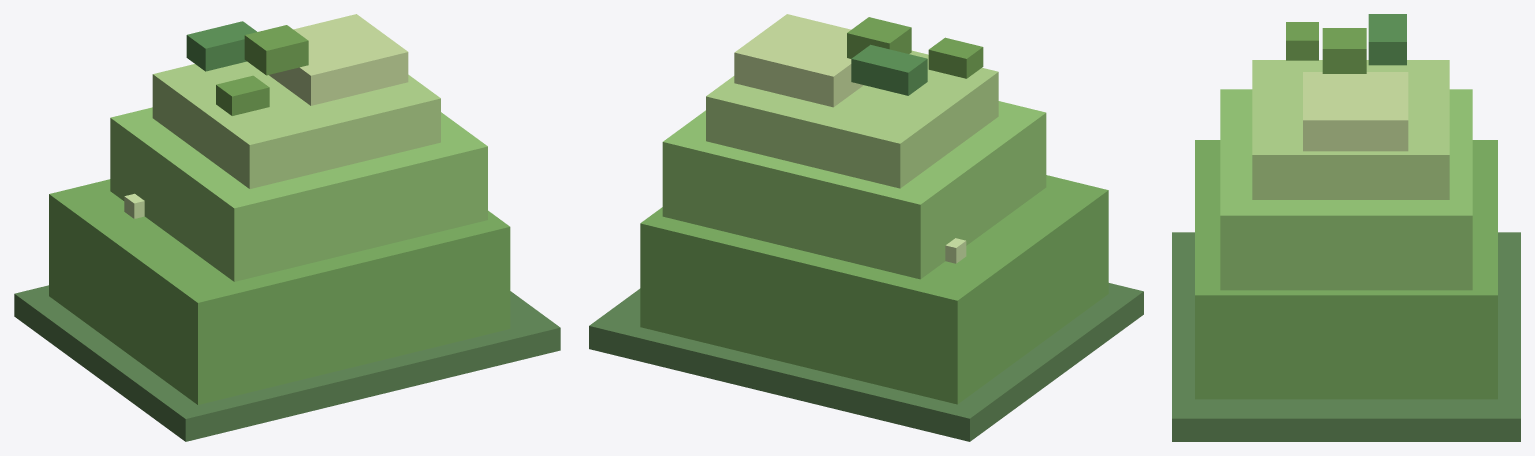
The model's file is moss-slime.glb.
3 renders of one model, left to right at view 1: azimuth 30°, elevation 25°; view 2: azimuth 150°, elevation 25°; view 3: azimuth 270°, elevation 25°, orthographic.
Parts seen in each view (by area): view 1: Slime_Body, Slime_Highlight, Wet_Ground, Moss; view 2: Slime_Body, Slime_Highlight, Wet_Ground, Moss; view 3: Slime_Body, Slime_Highlight, Wet_Ground, Moss.
Part boxes in pixels (<box>): Slime_Body: <box>49,107,510,404</box>; Slime_Highlight: <box>152,14,440,188</box>; Wet_Ground: <box>14,285,560,441</box>; Moss: <box>186,21,308,115</box>; Slime_Body: <box>640,101,1108,404</box>; Slime_Highlight: <box>706,14,998,188</box>; Wet_Ground: <box>589,283,1143,441</box>; Moss: <box>847,17,983,95</box>; Slime_Body: <box>1195,89,1497,399</box>; Slime_Highlight: <box>1252,60,1449,199</box>; Wet_Ground: <box>1172,232,1520,441</box>; Moss: <box>1286,14,1406,73</box>.
Size of the model in its own units: 4.8 by 3.66 by 3.8.
